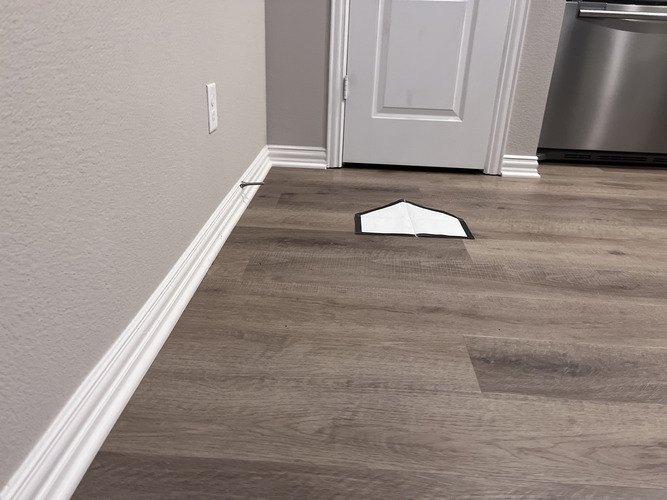homeplate: (353, 200, 472, 239)
